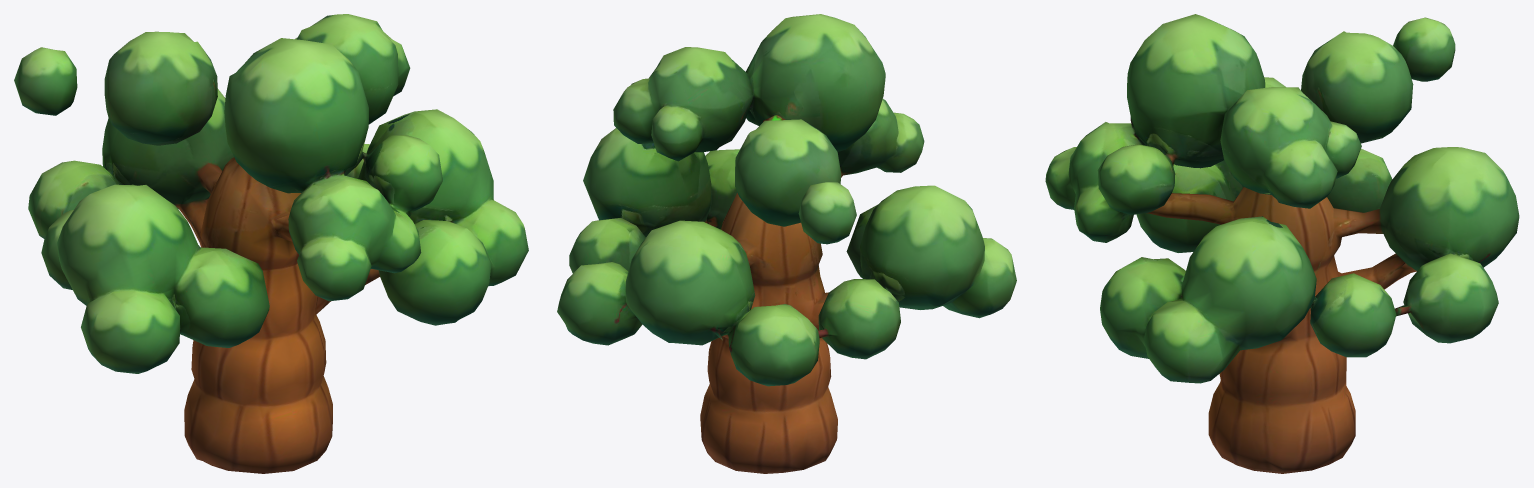
The model's file is tree_1126023743_texture.fbx.
3 renders of one model, left to right at view 1: azimuth 30°, elevation 25°; view 2: azimuth 150°, elevation 25°; view 3: azimuth 270°, elevation 25°, orthographic. The views are drawn at different scales.
Parts seen in each view (by area): view 1: Mesh1.0; view 2: Mesh1.0; view 3: Mesh1.0.
Part boxes in pixels (x1,y1,x2,y2): Mesh1.0: (14, 14, 528, 473); Mesh1.0: (557, 14, 1016, 473); Mesh1.0: (1045, 14, 1519, 473).
Size of the model in its own units: 191 by 183 by 188.
Materials: 1 (1 with a texture image).
